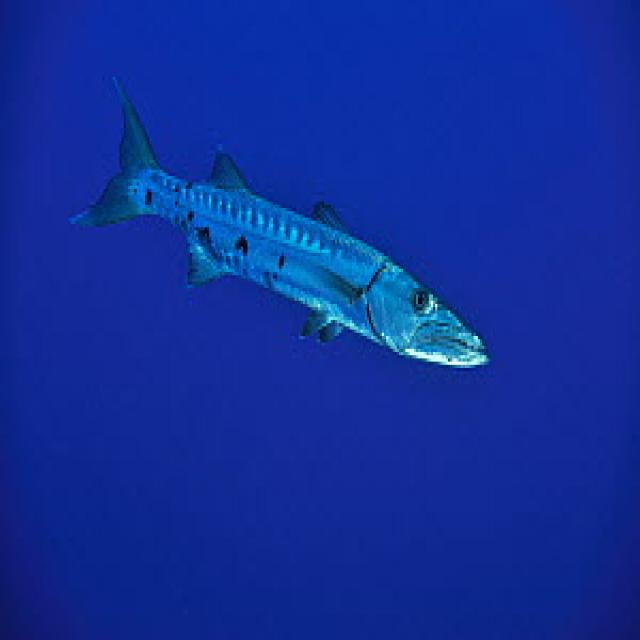Barracuda: (64, 70, 490, 372)
